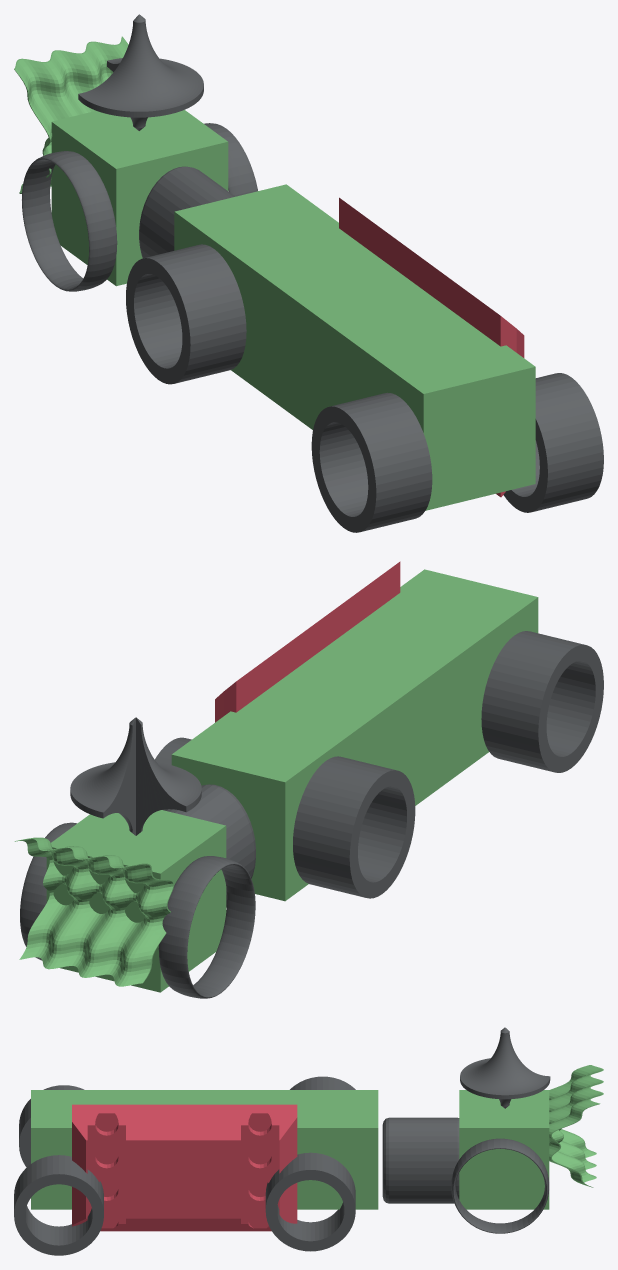
Rendered from Grand Stantia-Bombul.glb.
3 views of the same model, one above another, from view 1: azimuth 30°, elevation 25°; view 2: azimuth 150°, elevation 25°; view 3: azimuth 270°, elevation 25° (orthographic). The views are drawn at different scales.
Visible parts, largest first — view 1: Mesh_Mesh_head_geo.001_lambert2SG.001; view 2: Mesh_Mesh_head_geo.001_lambert2SG.001; view 3: Mesh_Mesh_head_geo.001_lambert2SG.001.
Part boxes in pixels (box(x1,y1,x2,y2)): Mesh_Mesh_head_geo.001_lambert2SG.001: box(14, 14, 603, 532); Mesh_Mesh_head_geo.001_lambert2SG.001: box(14, 561, 603, 998); Mesh_Mesh_head_geo.001_lambert2SG.001: box(14, 1027, 603, 1255).
Bounding box in the file's own units: 0.04 × 0.0467 × 0.131.
